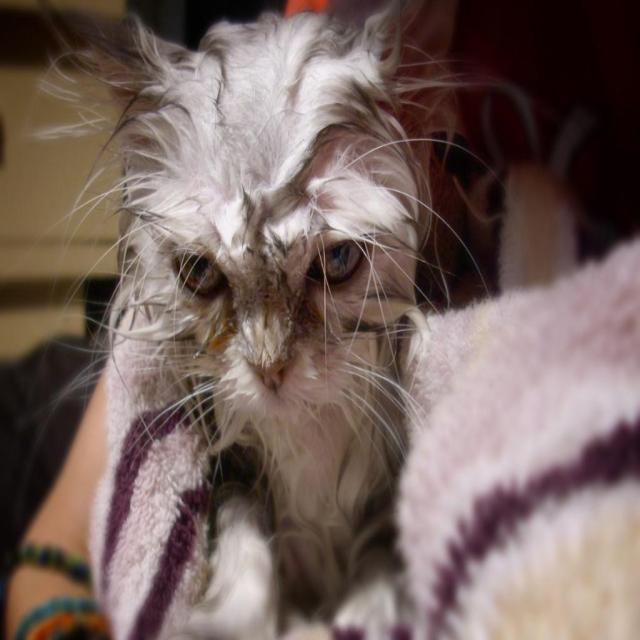Cat: (17, 0, 538, 638)
